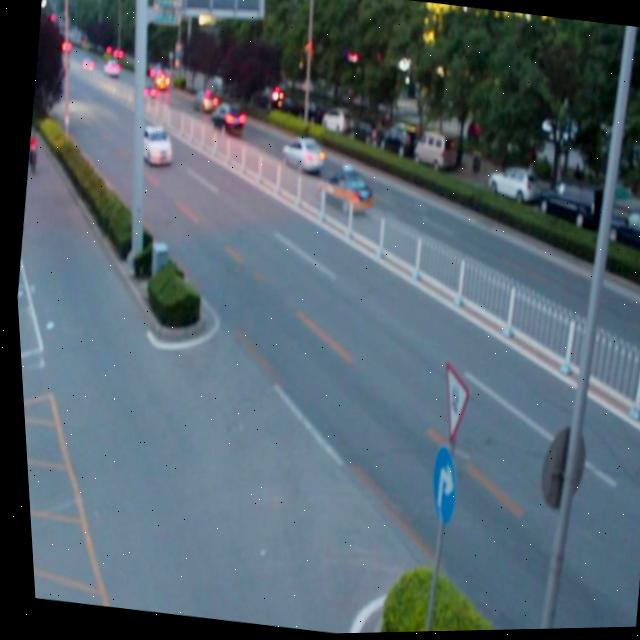car: (314, 169, 371, 217), (276, 133, 326, 179), (206, 100, 248, 143), (133, 125, 174, 167), (190, 86, 221, 119)
